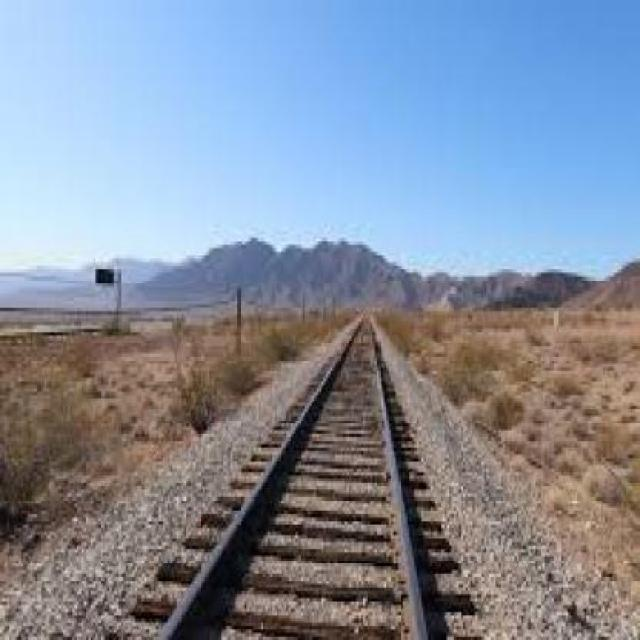rail: (93, 309, 491, 640)
